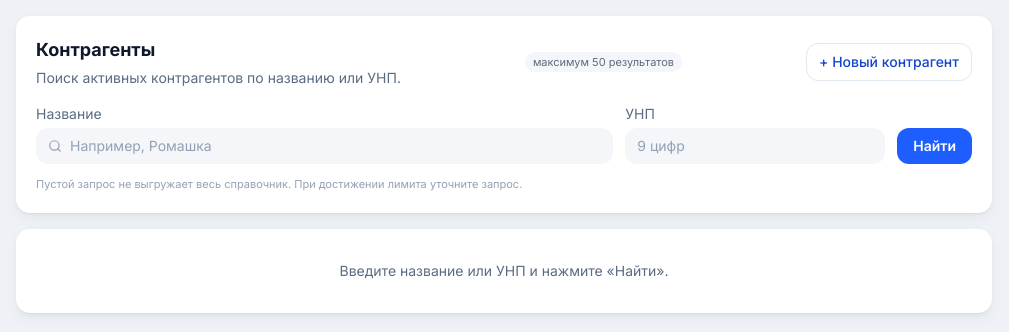
Scenario: SpravCounterparties › не принимает одновременные название и УНП
Type "Ромашка" into the field labelled "Название". click: (336, 146)
box: [70,136,601,156]
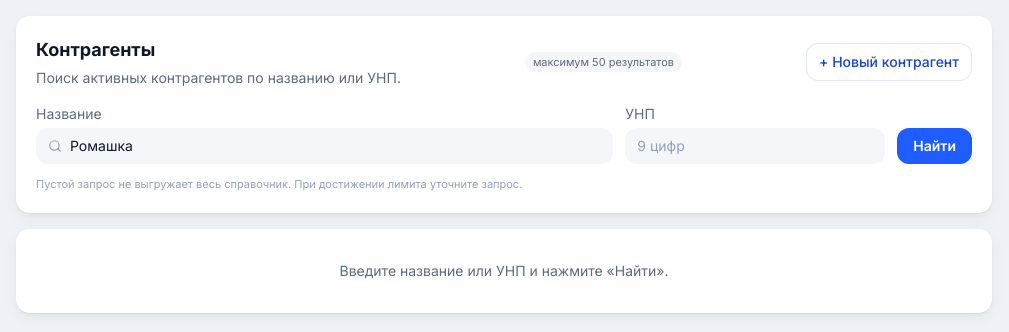
Type "190000001" into the field labelled "УНП". click: (755, 146)
box: [625,128,885,164]
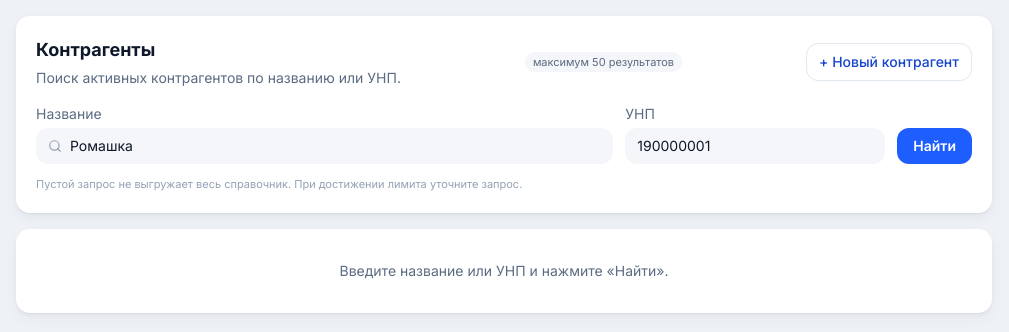
Click the button "Найти". click: (935, 146)
box: [897,128,972,164]
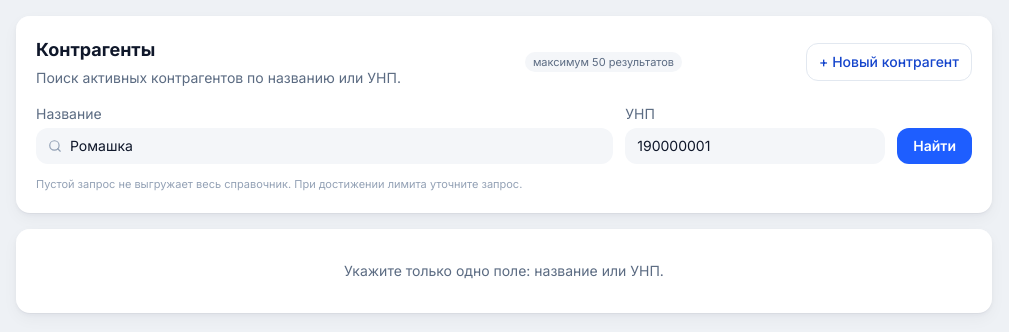
Expected: the message shows "Укажите только одно поле", [344,262,664,278]
